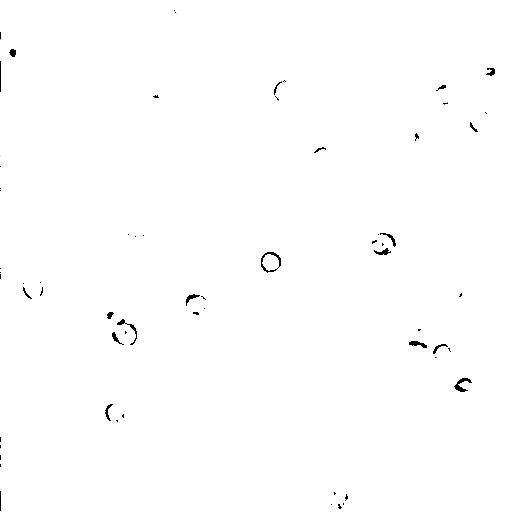micro-algae: (35, 299, 102, 360), (1, 271, 53, 333), (288, 231, 340, 283), (479, 174, 512, 224), (101, 341, 139, 378), (296, 449, 335, 481), (147, 245, 183, 277), (99, 304, 136, 334), (0, 31, 27, 67), (183, 290, 214, 321), (369, 199, 398, 229), (469, 108, 497, 137), (368, 231, 397, 257), (457, 283, 481, 314), (110, 322, 139, 346), (272, 79, 299, 104), (434, 82, 462, 106), (409, 320, 435, 344), (21, 276, 45, 301), (259, 250, 283, 274), (326, 487, 351, 510), (430, 343, 452, 368), (172, 0, 198, 21), (103, 401, 126, 424), (312, 145, 336, 167), (20, 29, 41, 53), (401, 126, 422, 149), (404, 338, 431, 355), (1, 435, 15, 463), (452, 377, 476, 393), (127, 227, 147, 245), (27, 501, 55, 512), (481, 65, 501, 79)
